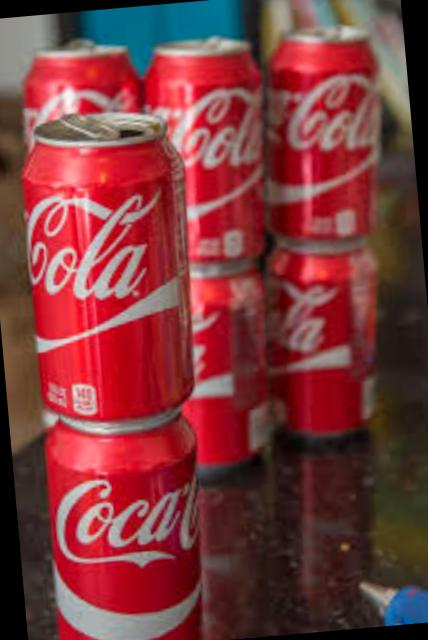metal: (21, 105, 195, 640), (143, 34, 271, 469), (263, 27, 379, 434), (21, 38, 140, 147)
